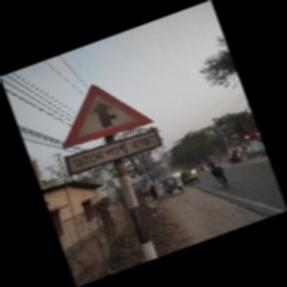Side-road-right: (63, 84, 162, 176)
